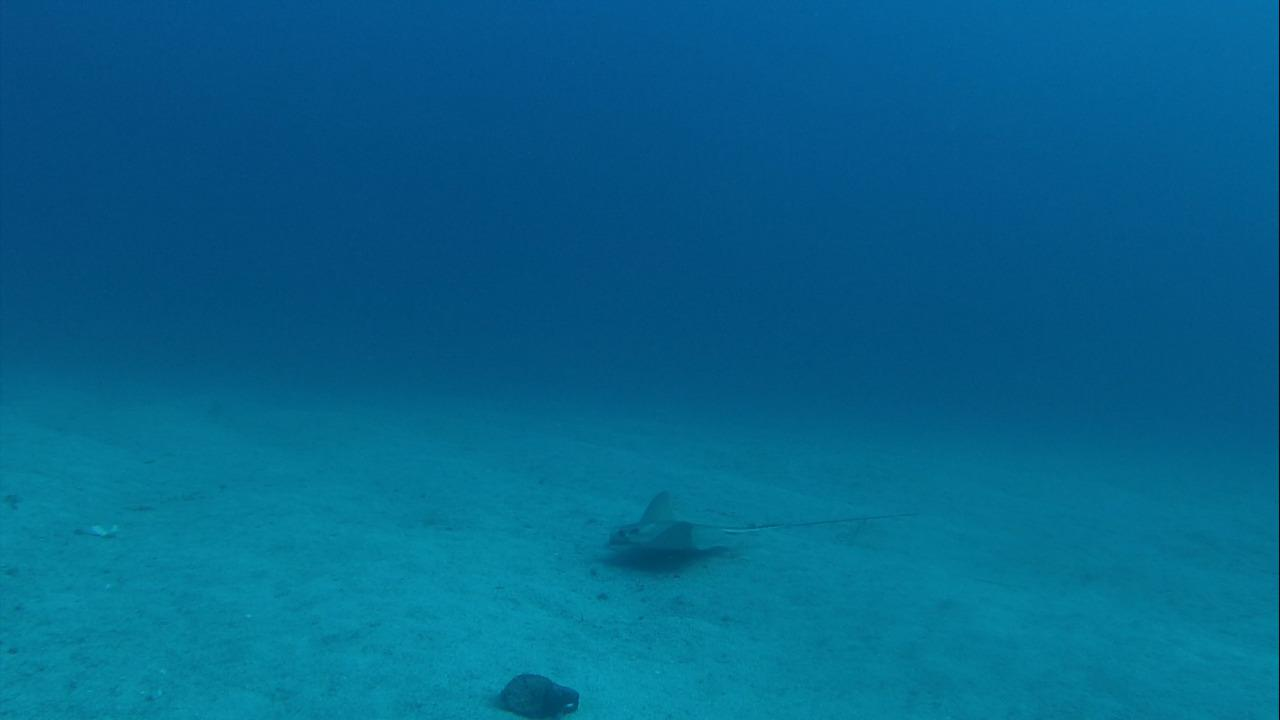myliobatis: (597, 487, 914, 563)
